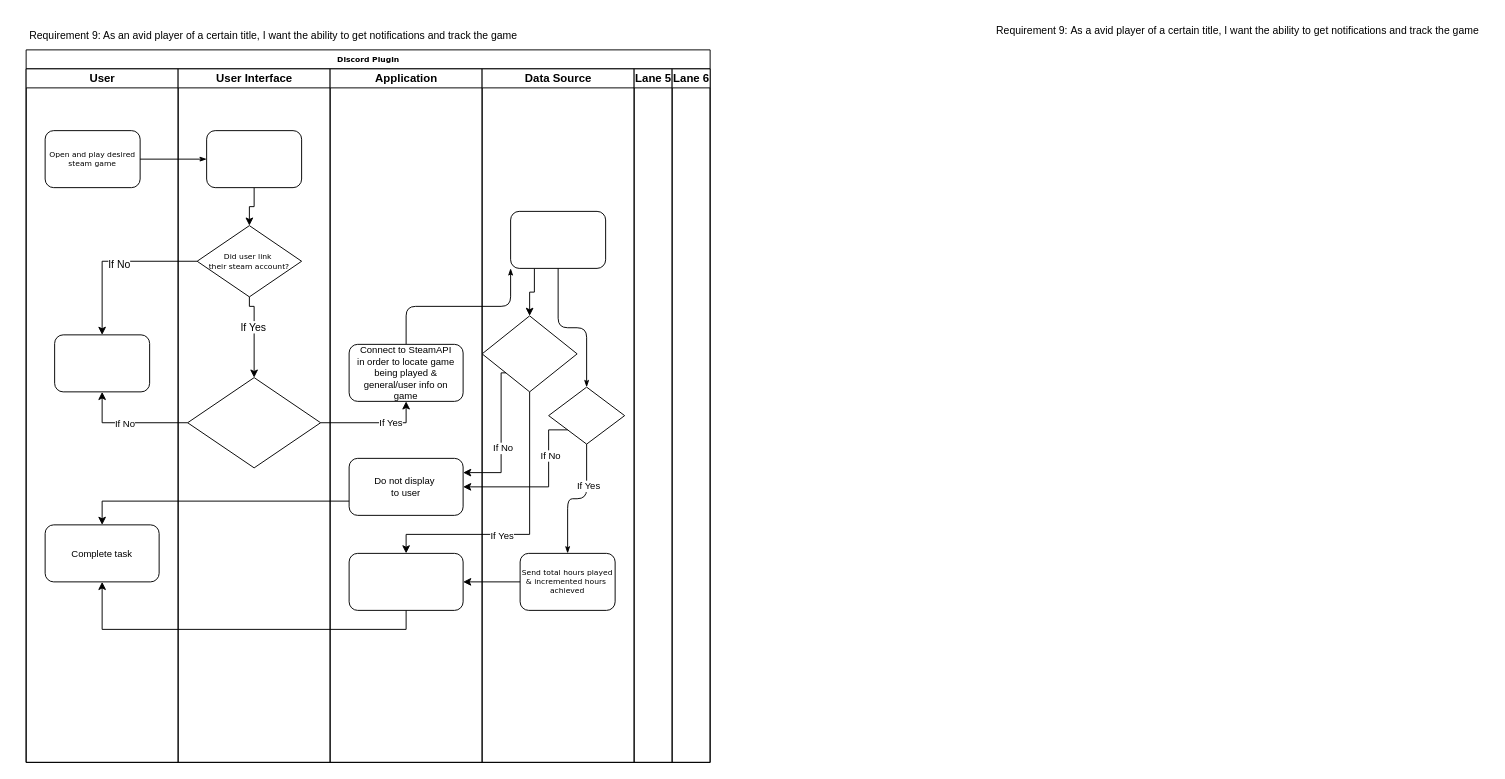
This 1505x779 diagram has some shape labels left out. The shapes that lost their labels are listed below. From the top down, each one's centre as x and y in pixels, then its label:
(x=254, y=159): Send specific game to the application
(x=558, y=239): Gather game data (Achievements, hours)
(x=102, y=363): Application cannot track game hours/send notifications
(x=529, y=353): Did user meet achievement requirements?
(x=254, y=422): Did user want to enable game tracking & notifications for title?
(x=586, y=415): Did users game hours increment by +10
(x=405, y=581): Display to user
